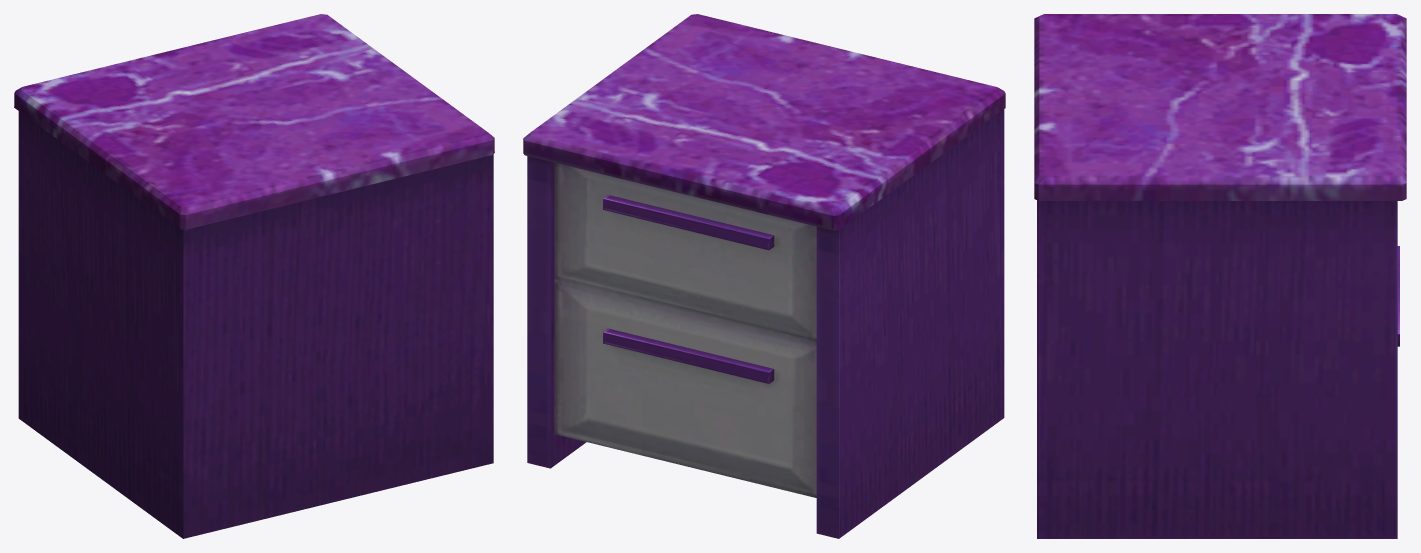
The model's file is furni_0200522_03.FBX.
3 views of the same model, side by side, from view 1: azimuth 30°, elevation 25°; view 2: azimuth 150°, elevation 25°; view 3: azimuth 270°, elevation 25° (orthographic). The views are drawn at different scales.
Parts seen in each view (by area): view 1: furni_0200522_03; view 2: furni_0200522_03; view 3: furni_0200522_03.
Part boxes in pixels (left/top/right/bottom): furni_0200522_03: left=14, top=14, right=494, bottom=538; furni_0200522_03: left=523, top=14, right=1005, bottom=538; furni_0200522_03: left=1034, top=14, right=1406, bottom=538.
Size of the model in its own units: 80.03 by 79.98 by 74.96.
Materials: 1 (1 with a texture image).
